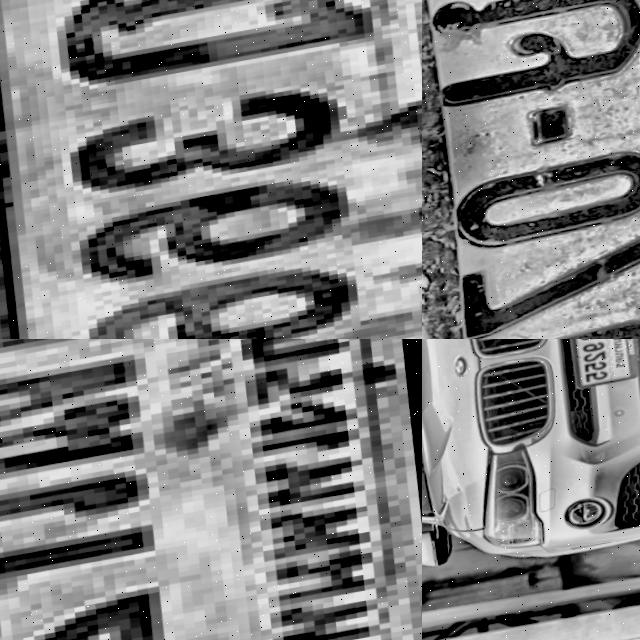license-plate: (0, 0, 422, 339), (0, 339, 422, 640), (422, 0, 640, 339), (556, 339, 640, 398)
